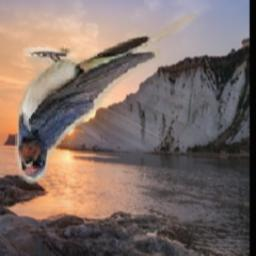Swallow: (16, 14, 198, 184)
